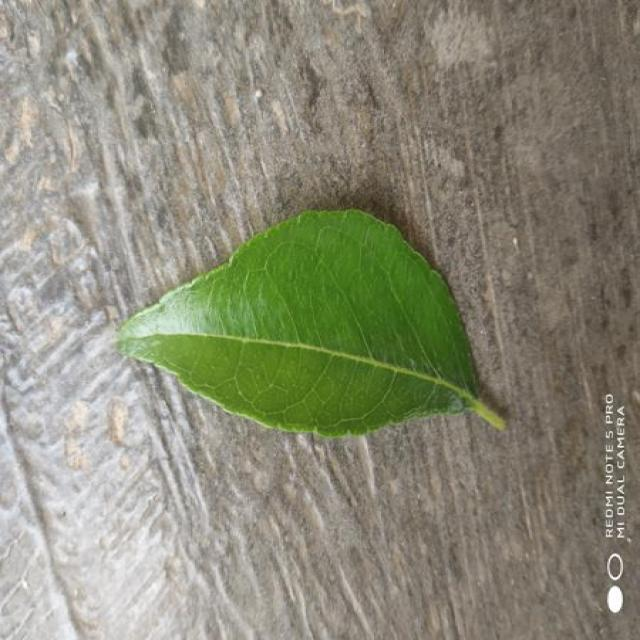curry: (117, 210, 505, 436)
